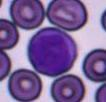L: (27, 27, 78, 76)
